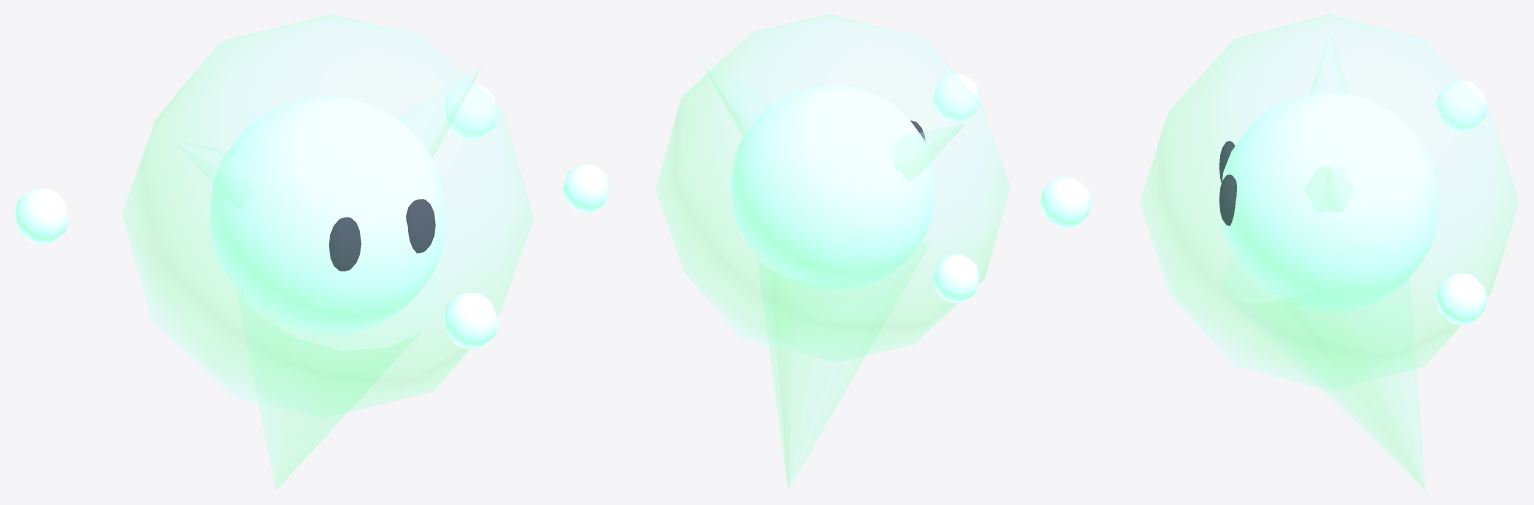
Rendered from mob_wisp.glb.
The picture shows the model from 3 angles, left to right: view 1: azimuth 30°, elevation 25°; view 2: azimuth 150°, elevation 25°; view 3: azimuth 270°, elevation 25°; orthographic projection. The views are drawn at different scales.
Parts seen in each view (by area): view 1: mob_body__m4_, mob_body_glow__m0_gm150_, mob_body_glow__m3_gm150_, m1_, m2_; view 2: mob_body__m4_, mob_body_glow__m0_gm150_, mob_body_glow__m3_gm150_; view 3: mob_body__m4_, mob_body_glow__m0_gm150_, mob_body_glow__m3_gm150_, m2_.
Boxes of the visible parts, box(x1,y1,x2,y2) form: mob_body__m4_: box(122, 14, 533, 489); mob_body_glow__m0_gm150_: box(209, 96, 446, 335); mob_body_glow__m3_gm150_: box(14, 83, 498, 349); m1_: box(329, 217, 361, 271); m2_: box(406, 199, 435, 253); mob_body__m4_: box(655, 14, 1010, 490); mob_body_glow__m0_gm150_: box(731, 84, 934, 291); mob_body_glow__m3_gm150_: box(562, 73, 979, 302); mob_body__m4_: box(1140, 14, 1518, 490); mob_body_glow__m0_gm150_: box(1221, 92, 1438, 312); mob_body_glow__m3_gm150_: box(1039, 80, 1487, 325); m2_: box(1219, 174, 1236, 225).
Size of what is drawn, in the model's own units: 1.93 by 1.93 by 1.82.
